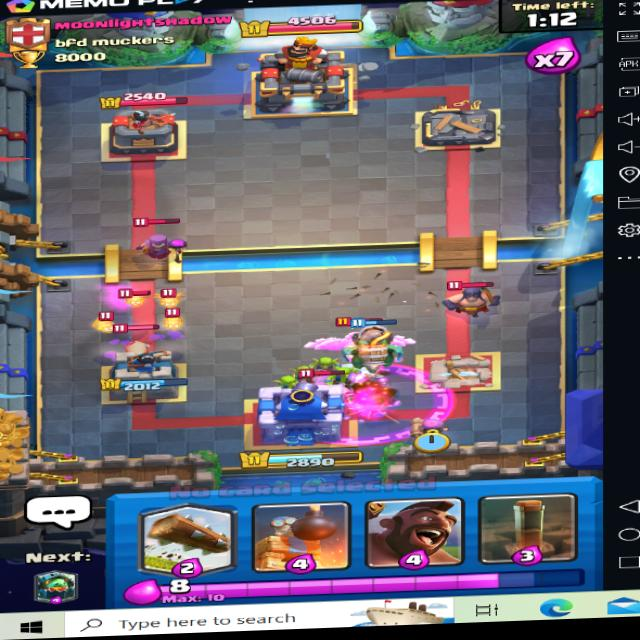Executioner: (446, 274, 504, 317)
Motherwitch: (126, 212, 192, 264)
Pig: (116, 326, 160, 363)
Rage: (289, 363, 452, 445)
